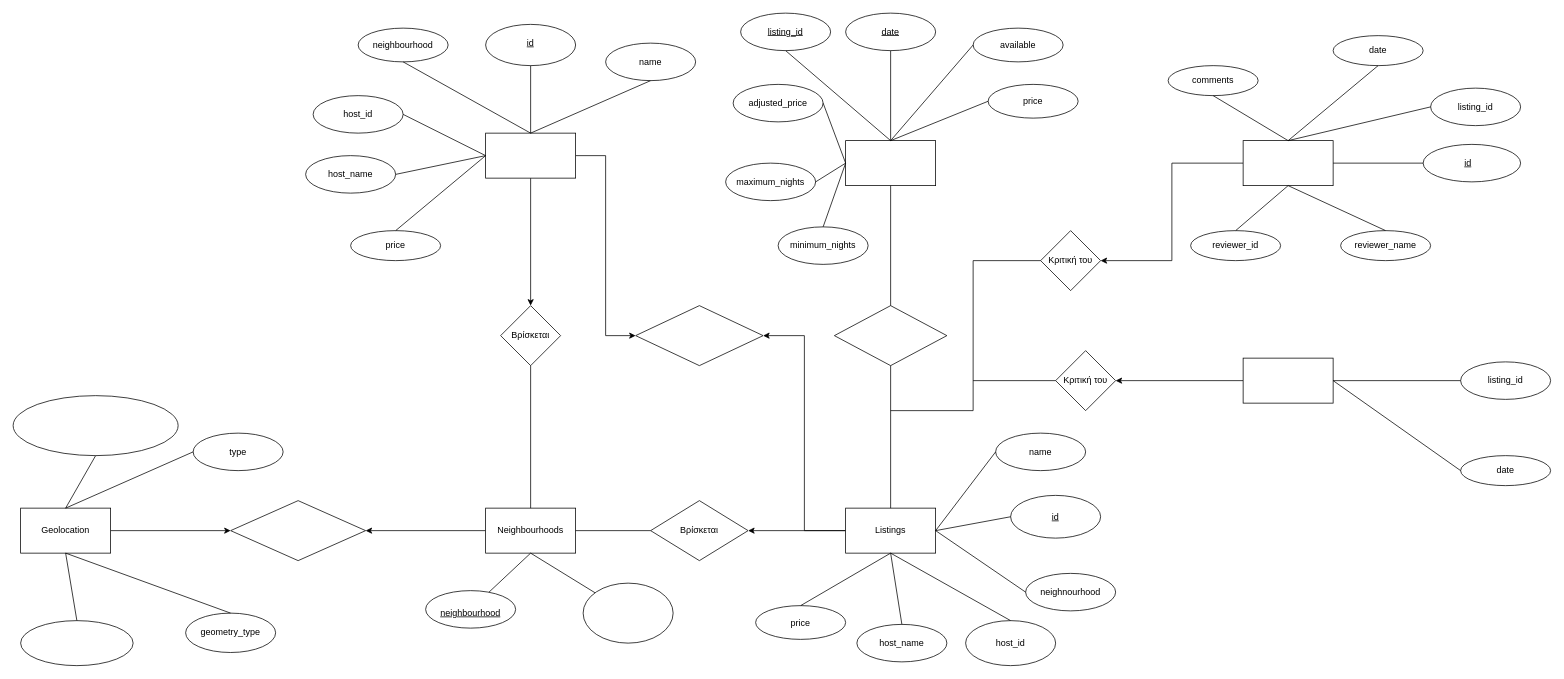
This 1564x679 diagram has some shape labels left out. The shapes that lost their labels are listed below. From the top down, each one's centre as x and y in pixels, then its label:
At point 530,155: "Listings-Summary".
At point 890,163: "Calendar".
At point 1287,163: "Reviews".
At point 699,335: "Περίληψη πληροφοριών του".
At point 890,335: "Ημερομηνία Κράτησης".
At point 1287,380: "Reviews-Symmary".
At point 95,425: "property_neighbourhood_group".
At point 298,530: "Συντεταγμένες διαμερίσματος και γειτονιάς".
At point 627,612: "neighbourhood_group".
At point 76,643: "property_neighbourhood".
